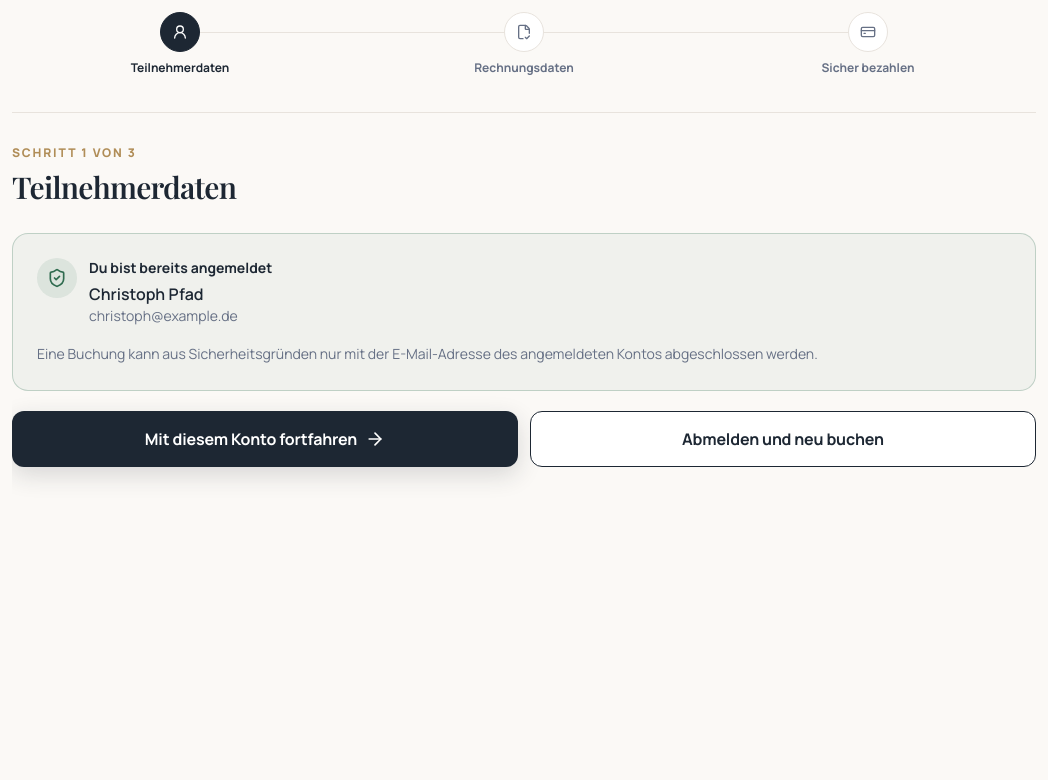
Test: Teilnehmerkonto im Checkout › führt mit der E-Mail des angemeldeten Kontos sicher fort
Click the button "Mit diesem Konto fortfahren": (265, 439) left=12, top=411, right=518, bottom=467
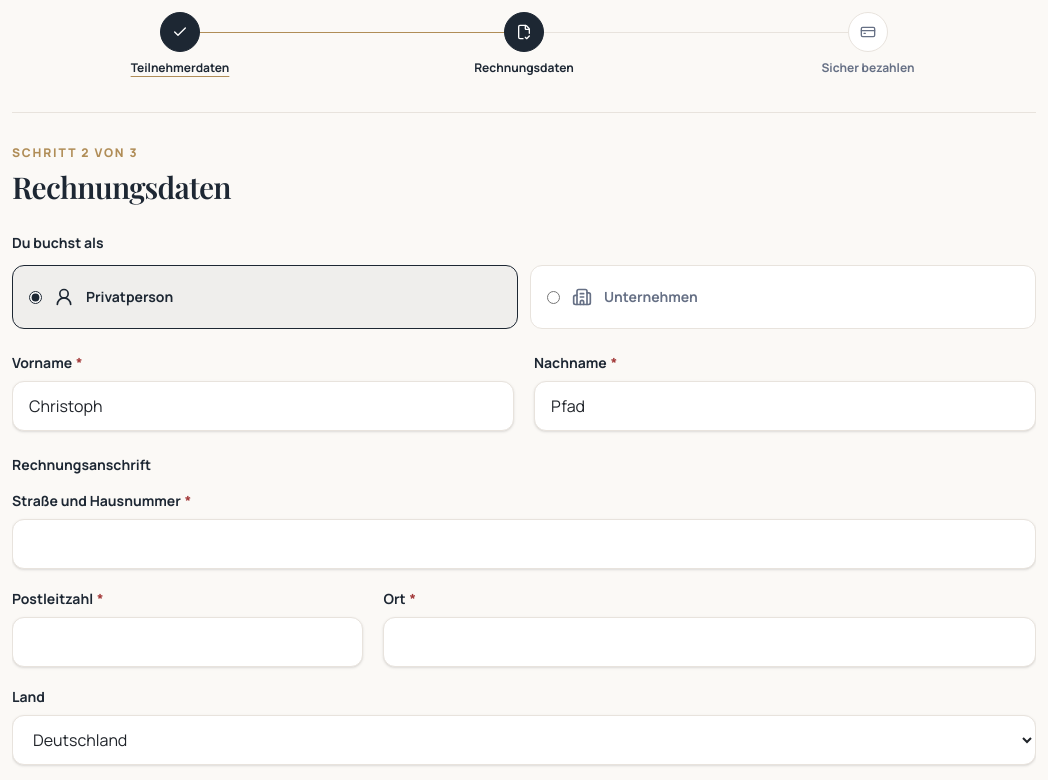
Result: the heading "Rechnungsdaten" is shown at left=12, top=167, right=231, bottom=207
